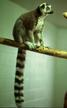cat: (11, 0, 54, 105)
